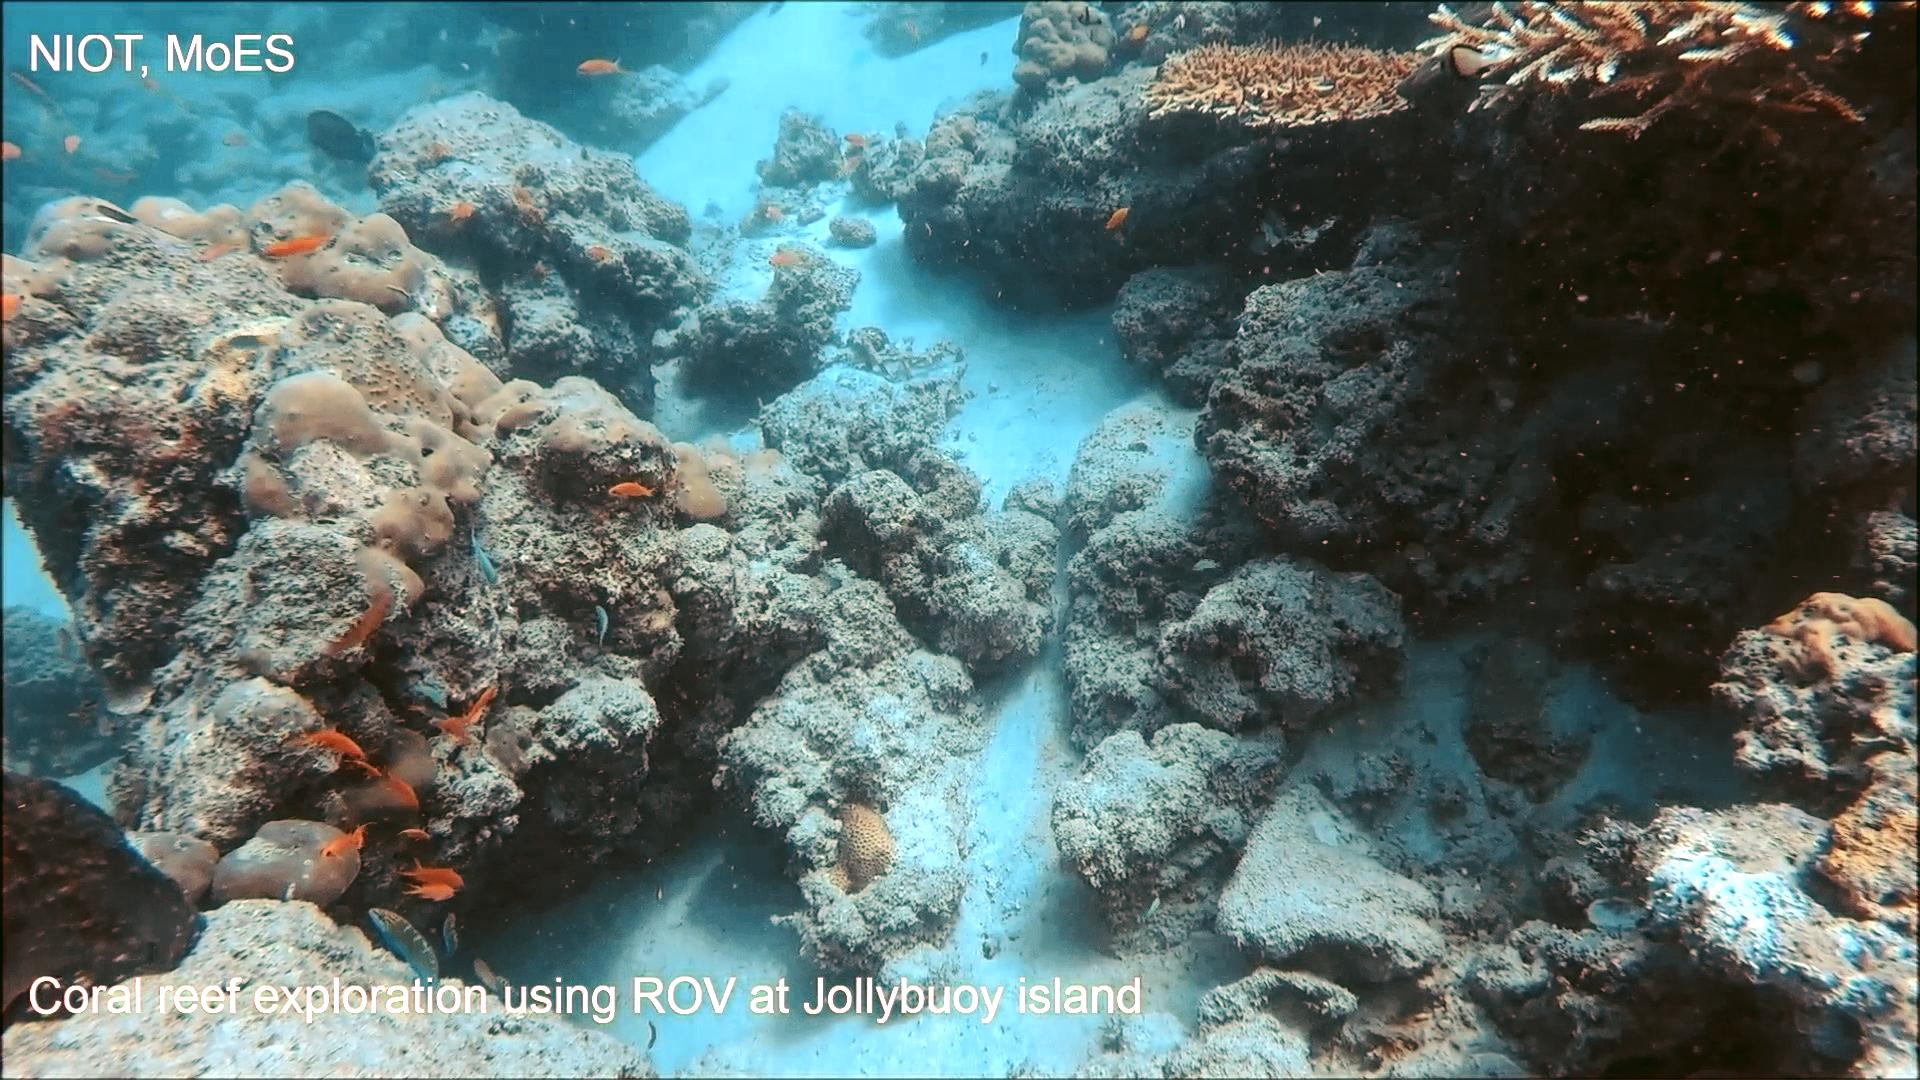Porites-Porites pukoensis: (224, 173, 558, 607)
